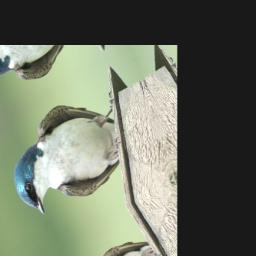Swallow: (0, 76, 141, 231)
